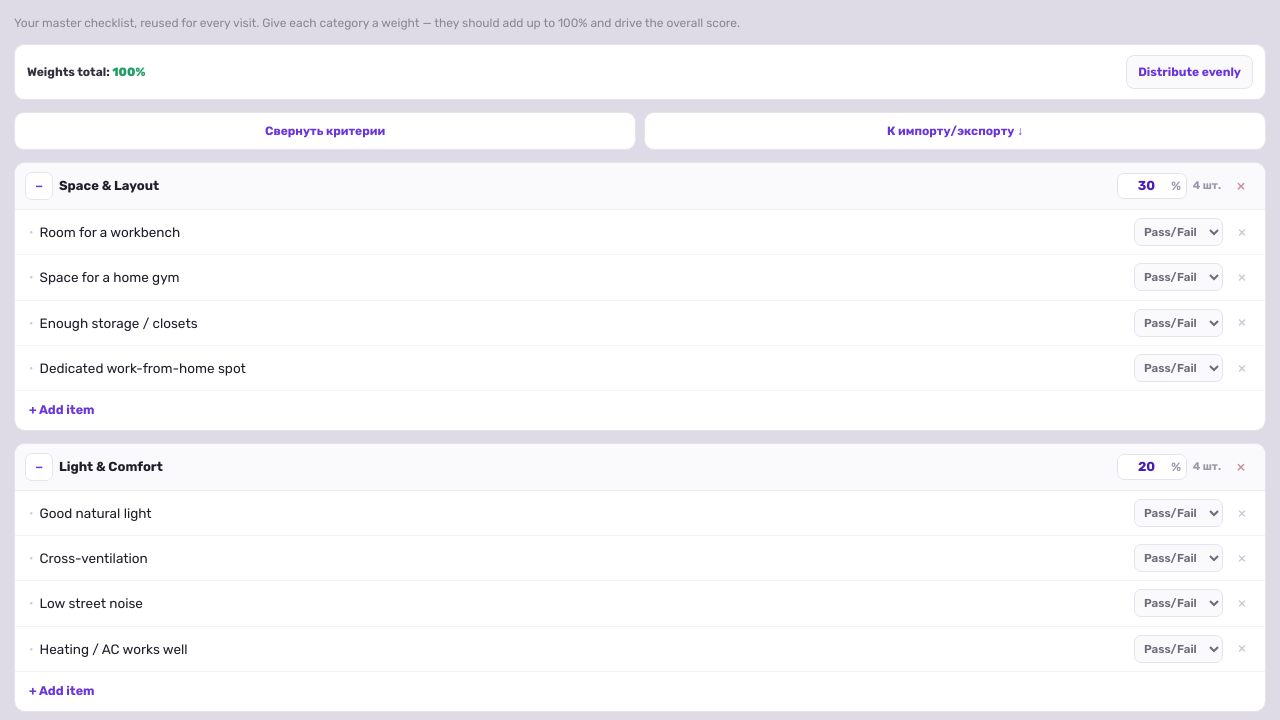
Test: ChecklistScreen navigation helpers › collapses categories and exposes a shortcut to data tools
The image size is (1280, 720).
Check: the 1st field named "Requirement" is shown, box 40,218 -> 1128,246
Click the button "Свернуть критерии" at (325, 131), box 14,112 -> 636,150
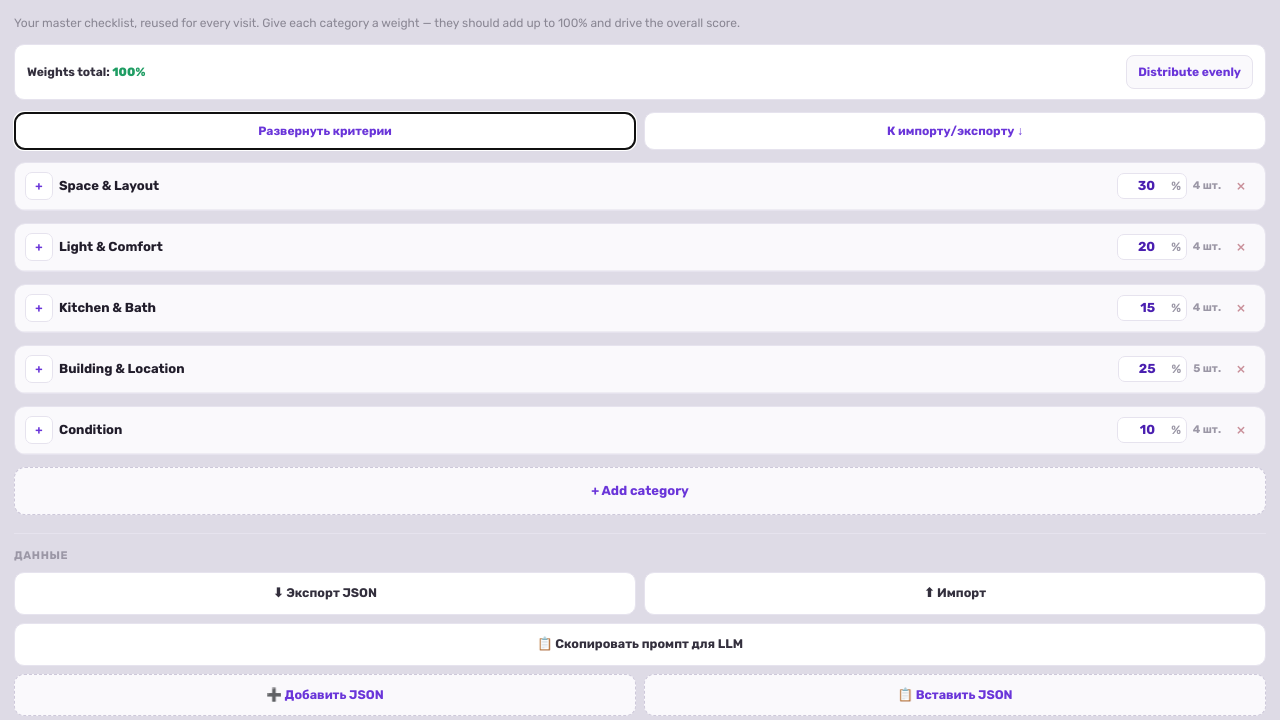
Check: the text "+ % 4 шт. ×" is shown, box 14,162 -> 1266,211
Check: the field labelled "Requirement" is gone
Check: the button "Развернуть критерии" is shown, box 14,112 -> 636,150
